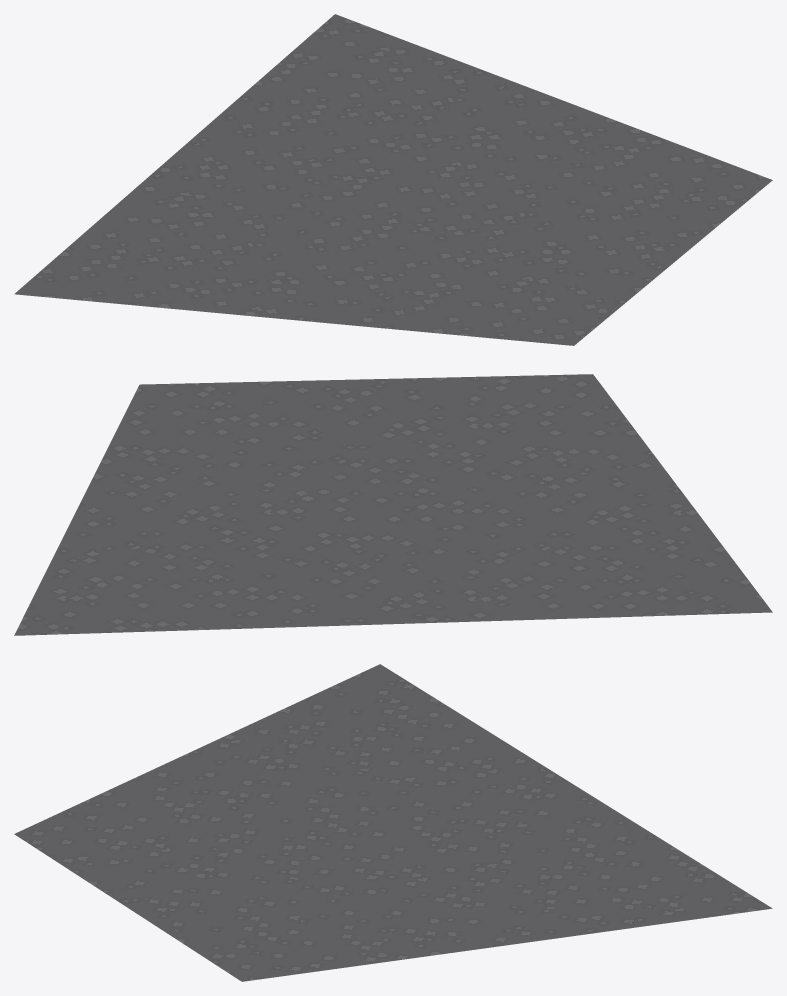
Rendered from kd_stage_1364a3_4_16_bounded.glb.
The picture shows the model from 3 angles, top to bottom: view 1: azimuth 30°, elevation 25°; view 2: azimuth 150°, elevation 25°; view 3: azimuth 270°, elevation 25°; orthographic projection. The views are drawn at different scales.
Parts seen in each view (by area): view 1: kd_stage_1364a3_4_16_bounded; view 2: kd_stage_1364a3_4_16_bounded; view 3: kd_stage_1364a3_4_16_bounded.
Part boxes in pixels (x1,y1,x2,y2): kd_stage_1364a3_4_16_bounded: [14, 14, 772, 345]; kd_stage_1364a3_4_16_bounded: [14, 374, 772, 635]; kd_stage_1364a3_4_16_bounded: [14, 664, 772, 981].
Bounding box in the file's own units: 8.61 × 7.63e-06 × 8.69.
Materials: 1 (1 with a texture image).
